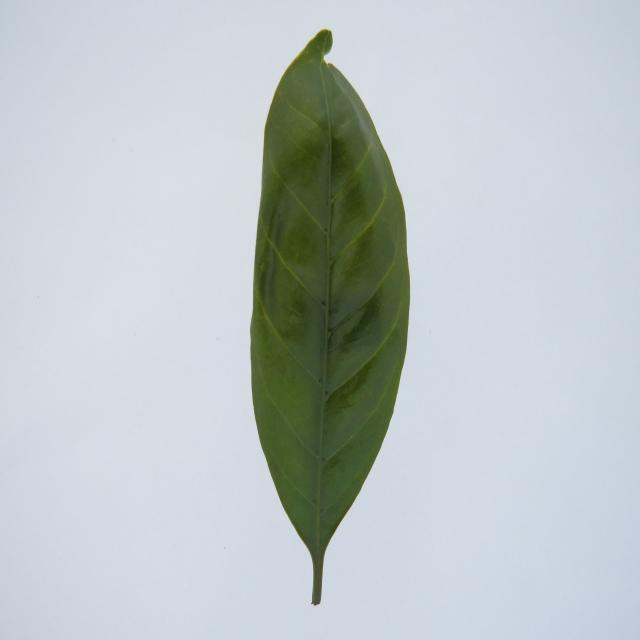DeficienciaNutricional-Boro: (251, 30, 410, 605)
